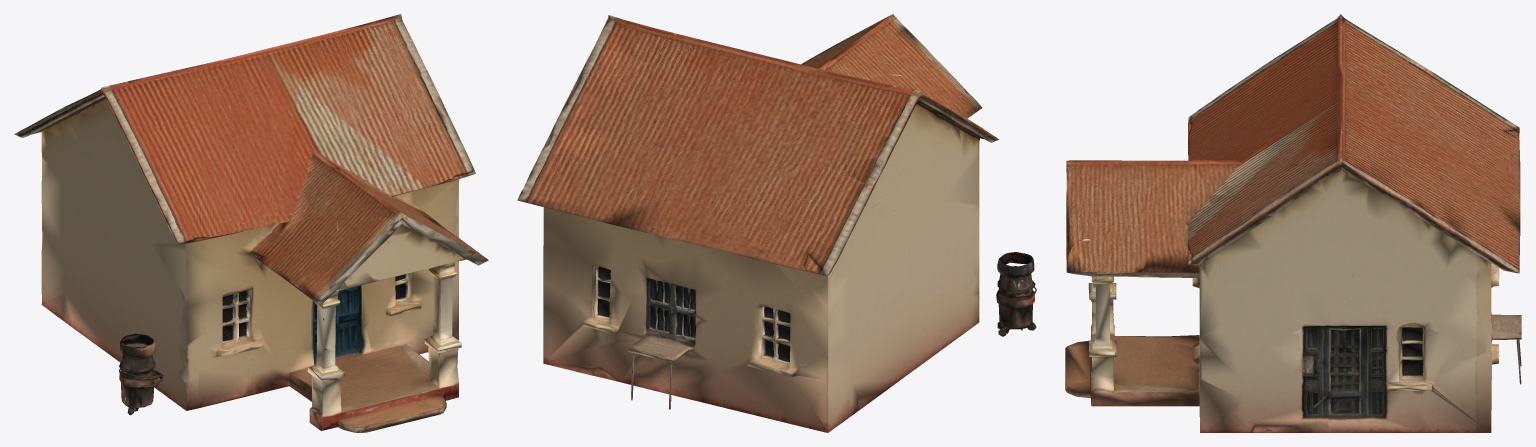
File: bungalow.glb
3 views of the same model, side by side, from view 1: azimuth 30°, elevation 25°; view 2: azimuth 150°, elevation 25°; view 3: azimuth 270°, elevation 25° (orthographic). The views are drawn at different scales.
Size of the model in its own units: 1.71 by 1.28 by 1.9.
1 material, 1 textured.
